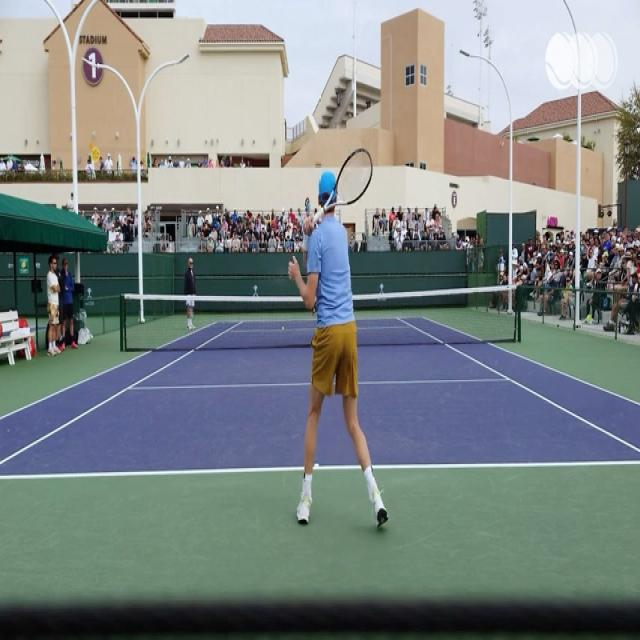forehand-finish: (287, 146, 387, 552)
